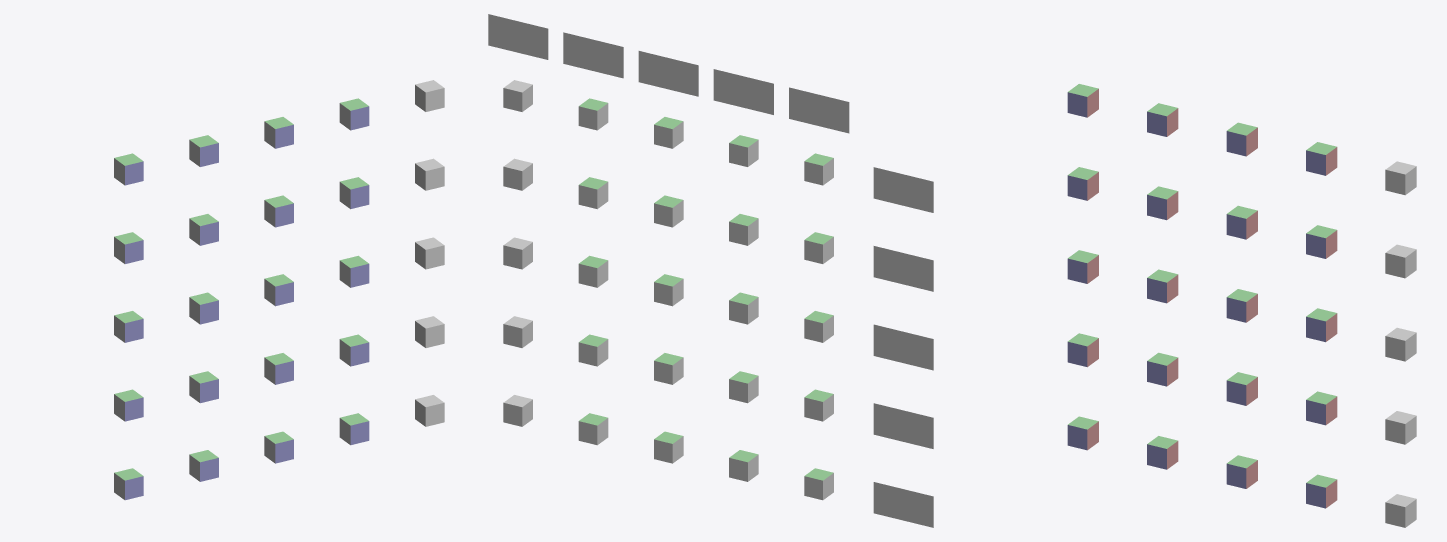
The model's file is meshopt_huge_view.gltf.
The picture shows the model from 3 angles, left to right: view 1: azimuth 30°, elevation 25°; view 2: azimuth 150°, elevation 25°; view 3: azimuth 330°, elevation 25°; orthographic projection. The views are drawn at different scales.
Parts seen in each view (by area): view 1: Cube_3_deinterleaved_u8norm_u8color_u32index, Cube_23_deinterleaved_u8norm_u8color_u32index_compressed_fil, Cube_18_deinterleaved_u8norm_u8color_u32index_compressed_fil, Cube_8_deinterleaved_u8norm_u8color_u32index_compressed_indi, Cube_13_deinterleaved_u8norm_u8color_u32index_compressed_tri, Cube_10_interleaved_u8norm_u8color_u16index_compressed_trian, Cube_11_deinterleaved_u8norm_u8color_u16index_compressed_tri, Cube_15_interleaved_u8norm_u8color_u16index_compressed_filte, Cube_20_interleaved_u8norm_u8color_u16index_compressed_filte, Cube_0_interleaved_u8norm_u8color_u16index, Cube_1_deinterleaved_u8norm_u8color_u16index, Cube_2_deinterleaved_u16norm_u16color_u16index (+13 smaller); view 2: RowLabel_0, RowLabel_3, RowLabel_4, ColLabel_0, ColLabel_3, ColLabel_4, ColLabel_1, RowLabel_1, RowLabel_2, ColLabel_2, Cube_3_deinterleaved_u8norm_u8color_u32index, Cube_23_deinterleaved_u8norm_u8color_u32index_compressed_fil (+23 smaller); view 3: Cube_5_interleaved_u8norm_u8color_u16index_compressed_indice, Cube_6_deinterleaved_u8norm_u8color_u16index_compressed_indi, Cube_7_deinterleaved_u16norm_u16color_u16index_compressed_in, Cube_8_deinterleaved_u8norm_u8color_u32index_compressed_indi, Cube_20_interleaved_u8norm_u8color_u16index_compressed_filte, Cube_2_deinterleaved_u16norm_u16color_u16index, Cube_3_deinterleaved_u8norm_u8color_u32index, Cube_4_animated_rotation, Cube_9_animated_rotation_compressed_indices, Cube_12_deinterleaved_u16norm_u16color_u16index_compressed_t, Cube_13_deinterleaved_u8norm_u8color_u32index_compressed_tri, Cube_14_animated_rotation_compressed_triangles (+13 smaller).
Boxes of the visible parts, x1,y1,x2,y2 form: Cube_3_deinterleaved_u8norm_u8color_u32index: (339, 98, 369, 130); Cube_23_deinterleaved_u8norm_u8color_u32index_compressed_fil: (339, 413, 369, 445); Cube_18_deinterleaved_u8norm_u8color_u32index_compressed_fil: (339, 334, 369, 366); Cube_8_deinterleaved_u8norm_u8color_u32index_compressed_indi: (339, 177, 369, 209); Cube_13_deinterleaved_u8norm_u8color_u32index_compressed_tri: (339, 255, 369, 287); Cube_10_interleaved_u8norm_u8color_u16index_compressed_trian: (114, 311, 143, 342); Cube_11_deinterleaved_u8norm_u8color_u16index_compressed_tri: (189, 292, 218, 324); Cube_15_interleaved_u8norm_u8color_u16index_compressed_filte: (114, 389, 143, 421); Cube_20_interleaved_u8norm_u8color_u16index_compressed_filte: (114, 468, 143, 500); Cube_0_interleaved_u8norm_u8color_u16index: (114, 153, 143, 185); Cube_1_deinterleaved_u8norm_u8color_u16index: (189, 135, 218, 166); Cube_2_deinterleaved_u16norm_u16color_u16index: (264, 117, 293, 148); RowLabel_0: (873, 167, 933, 212); RowLabel_3: (873, 403, 933, 448); RowLabel_4: (873, 482, 933, 527); ColLabel_0: (789, 87, 849, 133); ColLabel_3: (563, 32, 623, 78); ColLabel_4: (488, 14, 548, 59); ColLabel_1: (713, 69, 773, 114); RowLabel_1: (873, 246, 933, 291); RowLabel_2: (873, 324, 933, 370); ColLabel_2: (638, 51, 698, 96); Cube_3_deinterleaved_u8norm_u8color_u32index: (578, 98, 608, 130); Cube_23_deinterleaved_u8norm_u8color_u32index_compressed_fil: (578, 413, 608, 445); Cube_5_interleaved_u8norm_u8color_u16index_compressed_indice: (1067, 167, 1098, 200); Cube_6_deinterleaved_u8norm_u8color_u16index_compressed_indi: (1147, 186, 1178, 220); Cube_7_deinterleaved_u16norm_u16color_u16index_compressed_in: (1226, 205, 1257, 239); Cube_8_deinterleaved_u8norm_u8color_u32index_compressed_indi: (1306, 225, 1337, 258); Cube_20_interleaved_u8norm_u8color_u16index_compressed_filte: (1067, 416, 1098, 450); Cube_2_deinterleaved_u16norm_u16color_u16index: (1226, 122, 1257, 156); Cube_3_deinterleaved_u8norm_u8color_u32index: (1306, 142, 1337, 175); Cube_4_animated_rotation: (1385, 161, 1416, 195); Cube_9_animated_rotation_compressed_indices: (1385, 244, 1416, 278); Cube_12_deinterleaved_u16norm_u16color_u16index_compressed_t: (1226, 289, 1257, 322); Cube_13_deinterleaved_u8norm_u8color_u32index_compressed_tri: (1306, 308, 1337, 342); Cube_14_animated_rotation_compressed_triangles: (1385, 327, 1416, 361).
Size of the model in its own units: 23.7 by 20.6 by 1.
